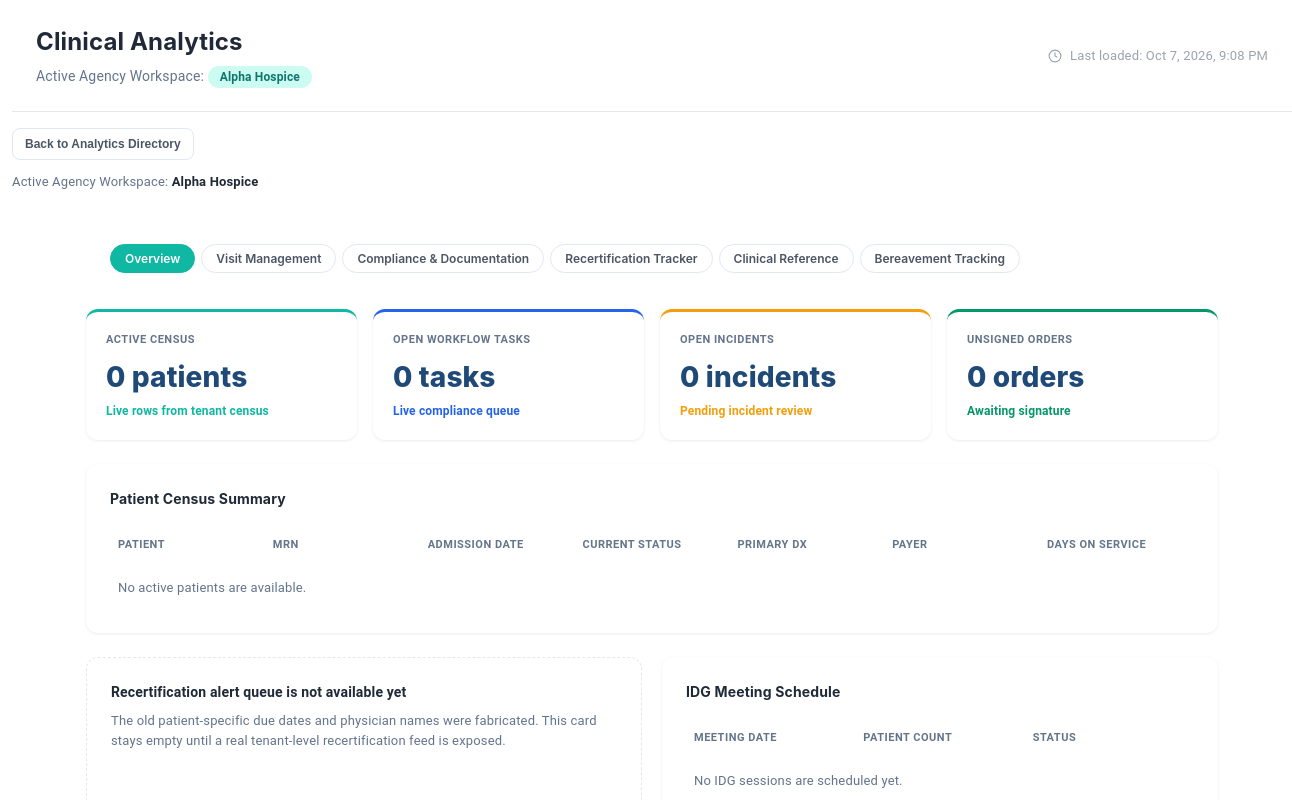
Test: SNSAnalytics › shows the honest clinical empty-state messaging after fabricated recertification data was removed
Check: the text "Patient Census Summary" is shown, box [110,490,286,507]
Check: the text "No active patients are available." is shown, box [110,566,1194,609]
What coordinates should you click on to do the following:
click the button "Recertification Tracker"
I would click on:
 (631, 258)
Its box is [550,244,712,272].
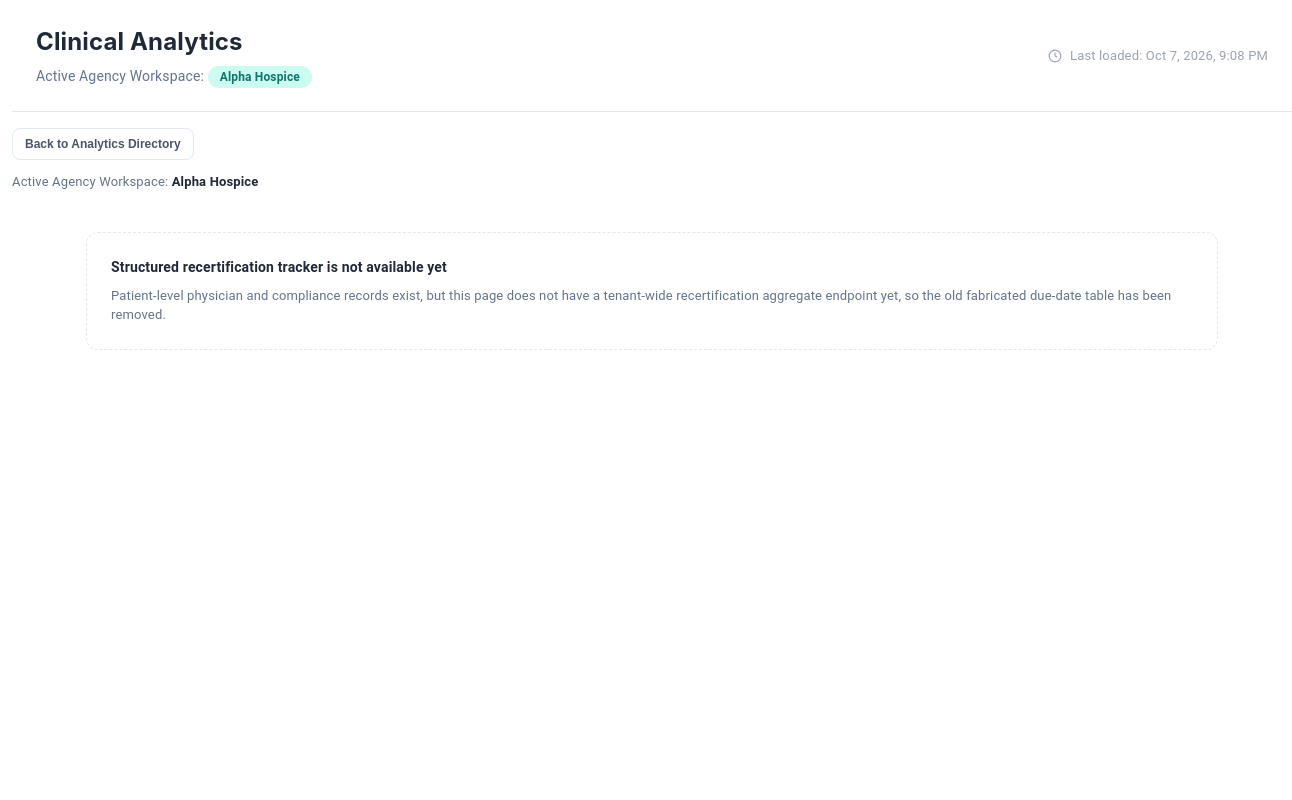
Check: the text "Structured recertification tracker is not available yet" is shown, box [111,258,447,274]
